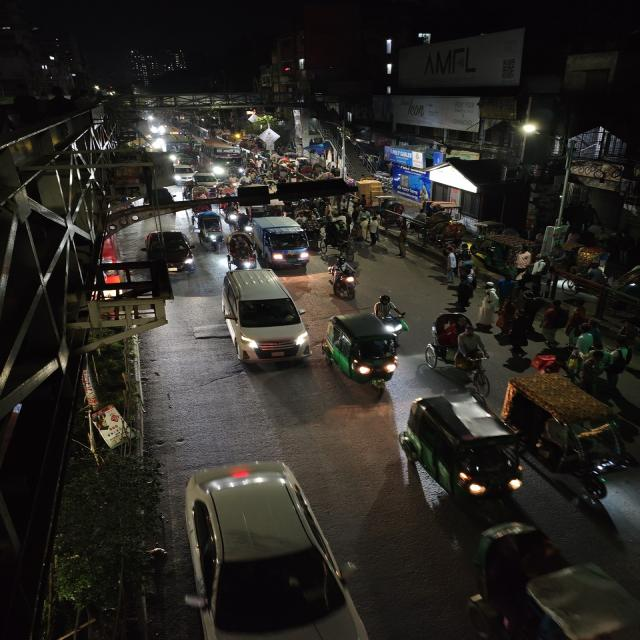bus: (201, 142, 244, 174), (163, 135, 200, 171)
car: (169, 457, 375, 640), (216, 268, 312, 370), (139, 228, 197, 274), (170, 165, 196, 185), (191, 172, 220, 186)
cng: (399, 392, 528, 506), (320, 310, 404, 394), (194, 212, 226, 248)
motorcycle: (326, 256, 366, 301), (373, 293, 410, 334)
pedestrian: (530, 300, 571, 347), (314, 218, 348, 256), (476, 281, 501, 327), (602, 349, 632, 386), (491, 300, 520, 336), (439, 244, 466, 282), (449, 278, 477, 310), (348, 220, 368, 253), (363, 215, 383, 247), (576, 324, 596, 354)
rickshaw: (505, 370, 639, 510), (424, 314, 487, 379), (224, 231, 259, 269), (194, 212, 228, 248), (295, 208, 314, 230)
truck: (253, 216, 315, 270)
